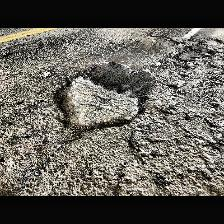pothole: (52, 59, 156, 141)
